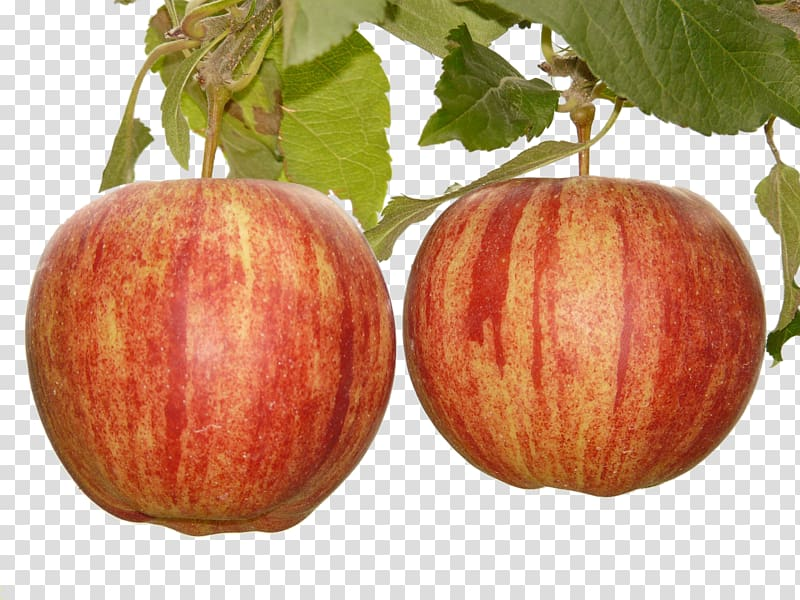elma: (27, 177, 397, 532), (405, 177, 767, 491)
